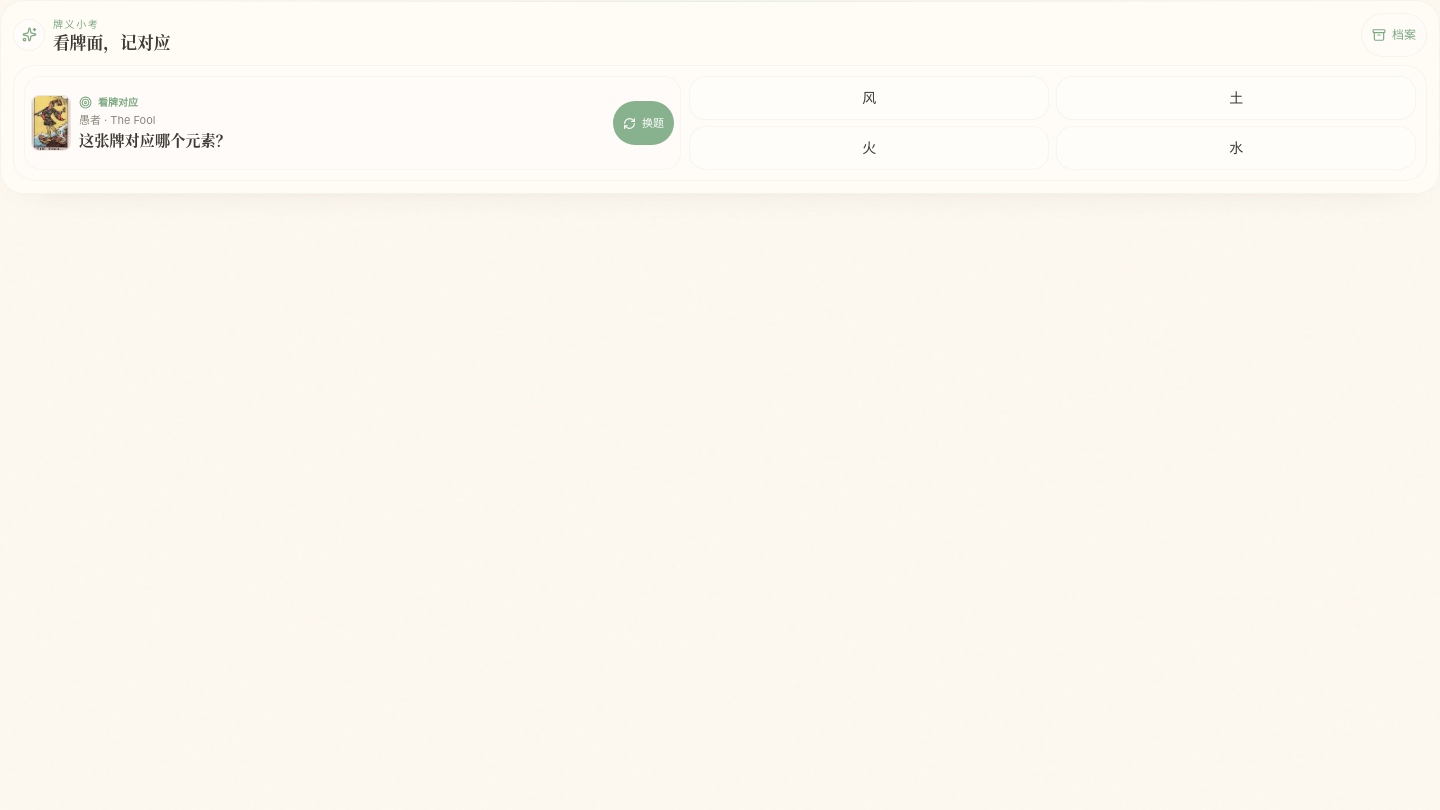
Test case: StudyPavilionModules › shows persisted quiz history in the archive
Click the button "档案" at (1394, 35), box [1361,13,1427,57]
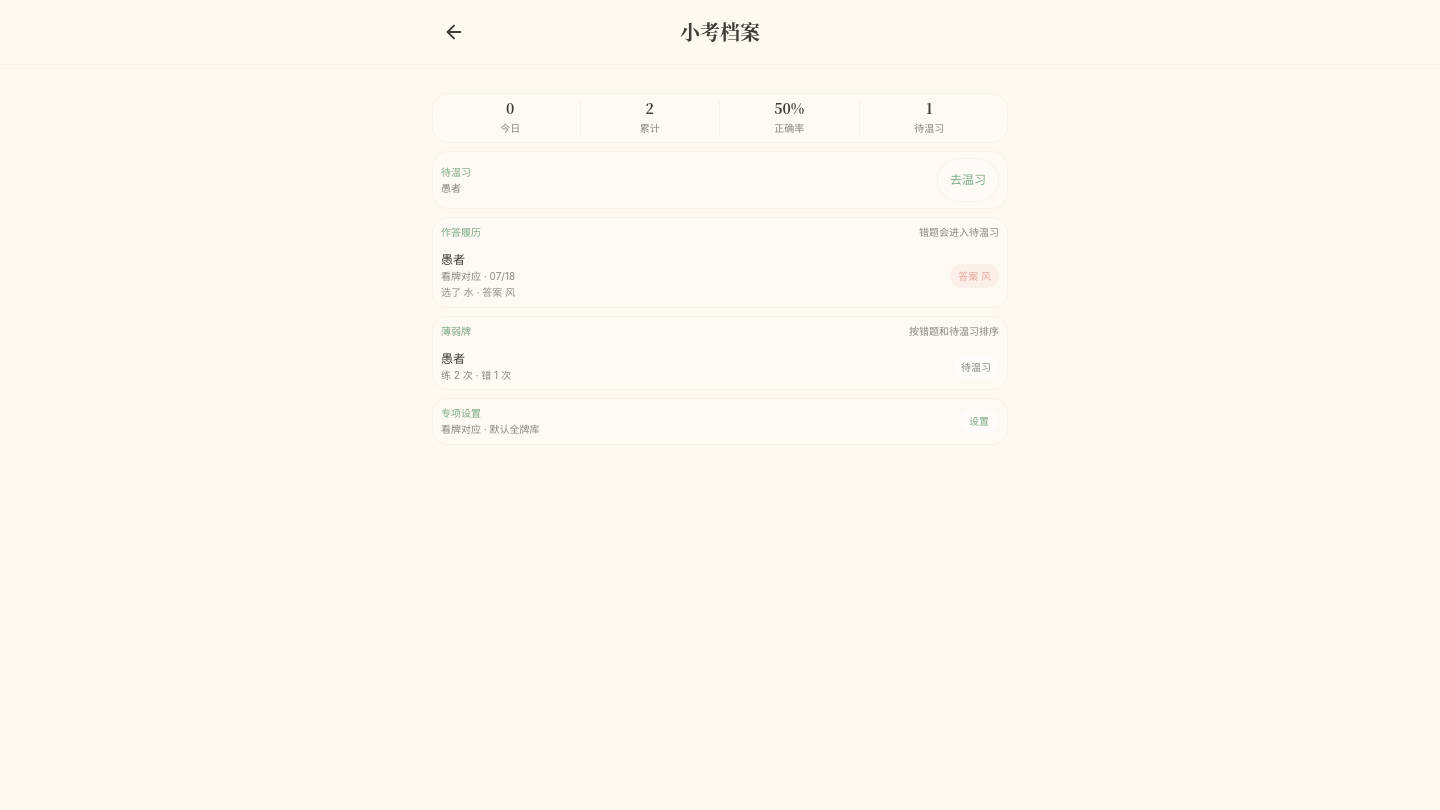
Expected: the text "作答履历" is shown, [441,224,481,240]
Expected: the text "选了 水 · 答案 风" is shown, [441,284,515,301]
Expected: the text "薄弱牌" is shown, [441,322,471,339]
